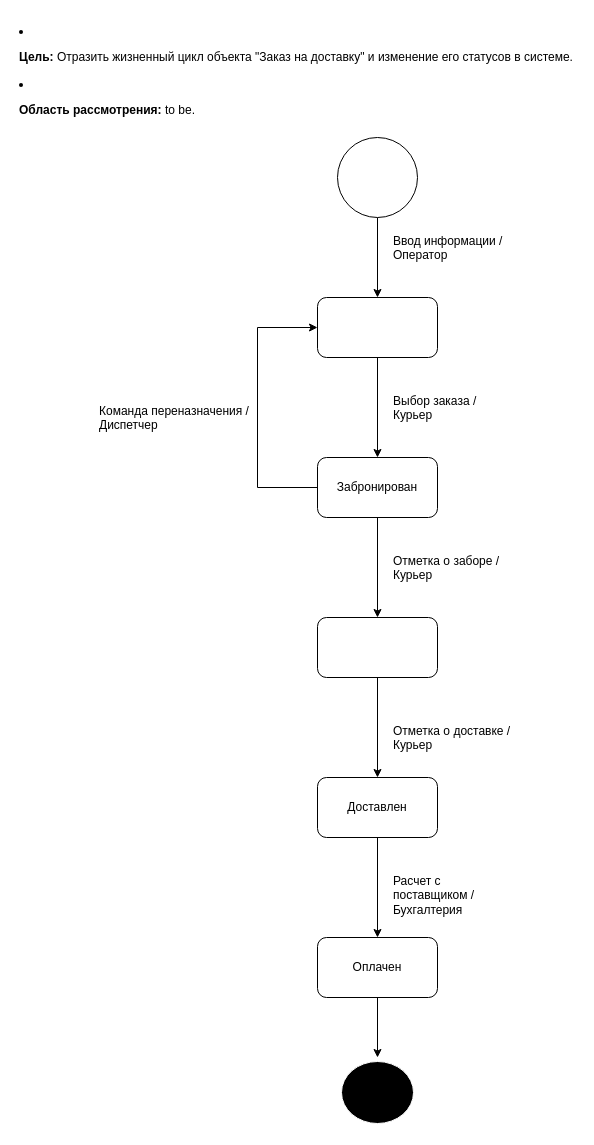
Image size: 594x1145. Some labels were removed from this diagram. Each missing label, with the centre of its shape:
"В пути" goes at (x=377, y=647).
"Новый" goes at (x=377, y=327).
